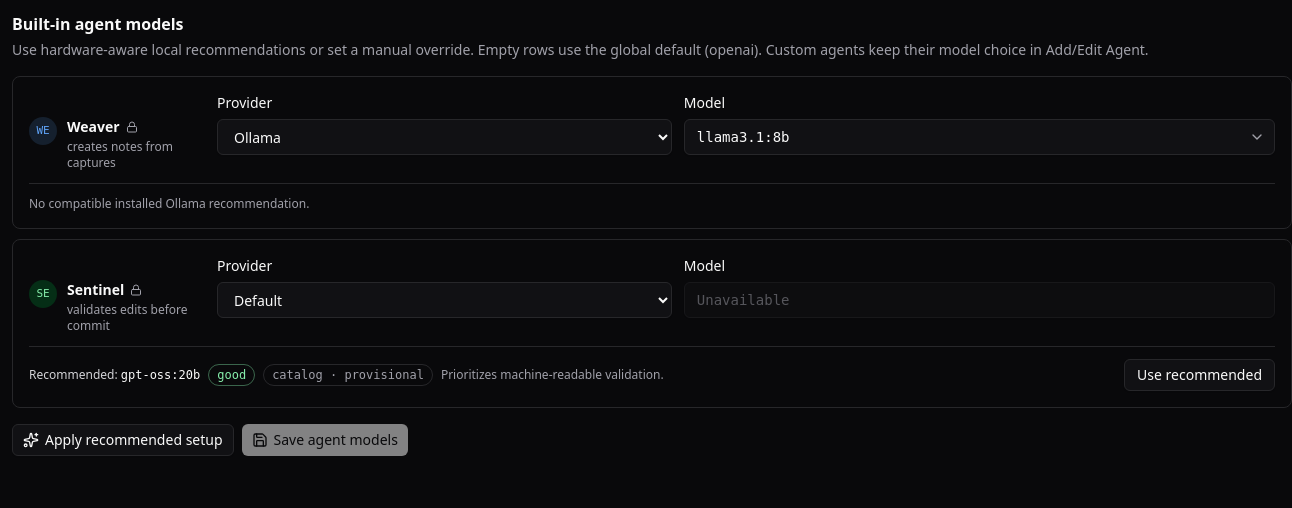
it: AgentModelsCard › stages a role-aware recommendation for a built-in agent
Step 1. Click the button "Use recommended" → (1200, 375), box left=1124, top=359, right=1275, bottom=391
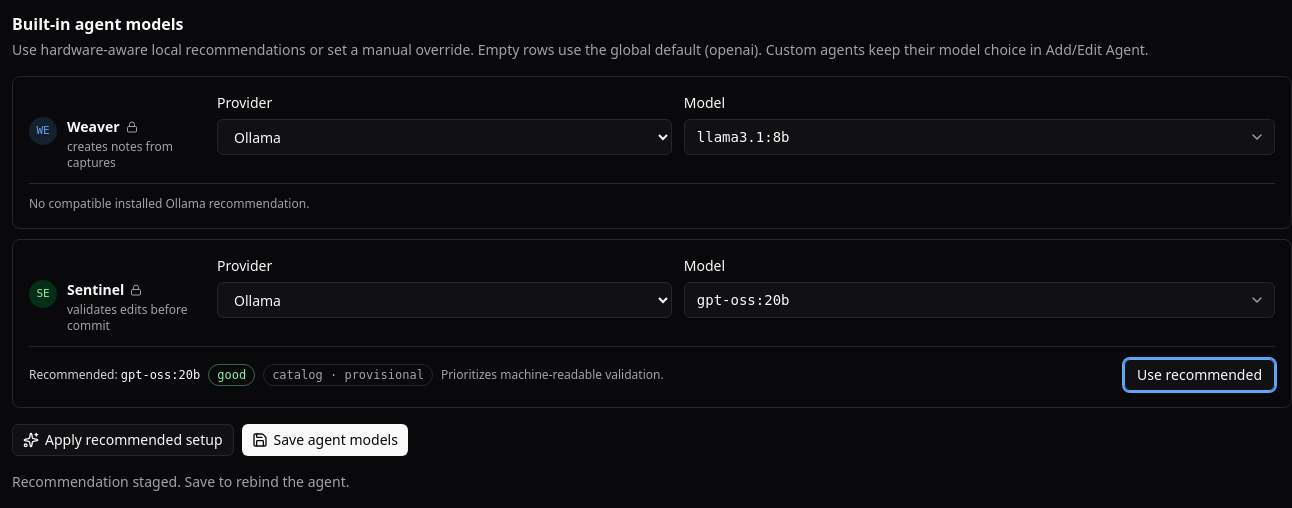
expect the dropdown labelled "Provider" next to "validates edits before commit" shows "Ollama": met, box left=217, top=282, right=672, bottom=318
expect the field with placeholder "model name" in the row of "validates edits before commit" holds "gpt-oss:20b": met, box left=684, top=282, right=1275, bottom=318
expect the button "Save agent models" is enabled: met, box left=242, top=424, right=408, bottom=456
